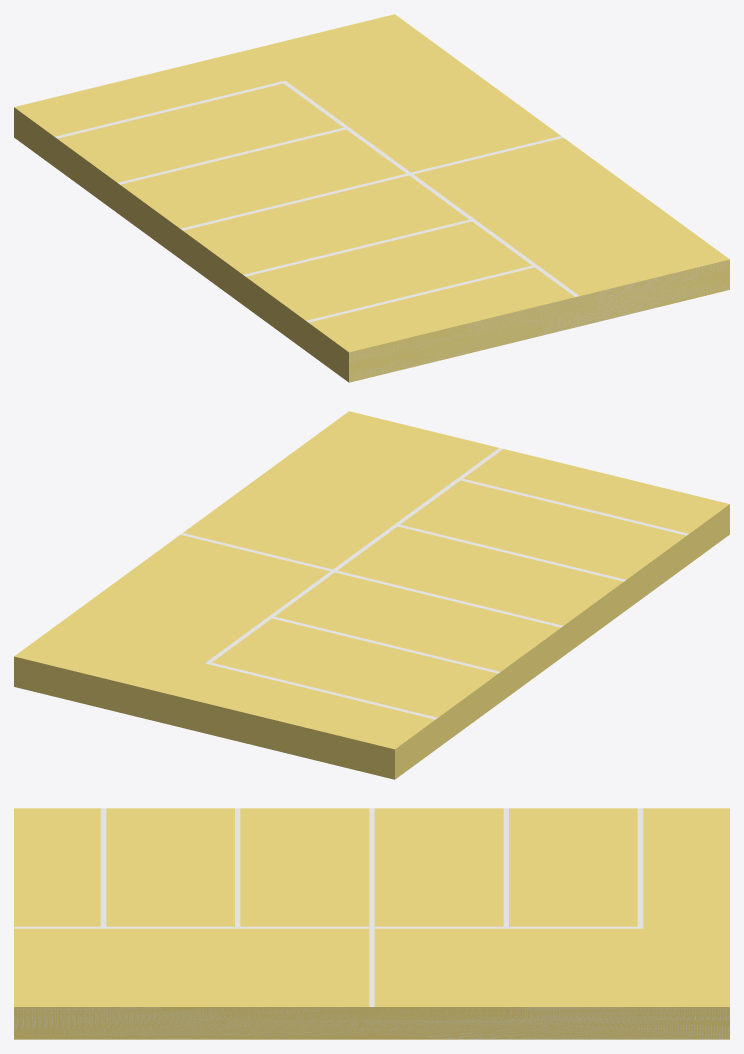
3 renders of one model, top to bottom at view 1: azimuth 30°, elevation 25°; view 2: azimuth 150°, elevation 25°; view 3: azimuth 270°, elevation 25°, orthographic. The views are drawn at different scales.
Parts seen in each view (by area): view 1: instance_0, instance_0.001; view 2: instance_0, instance_0.001; view 3: instance_0, instance_0.001.
Part boxes in pixels (x1,y1,x2,y2): instance_0: (14, 14, 729, 382); instance_0.001: (55, 80, 579, 322); instance_0: (14, 411, 729, 779); instance_0.001: (180, 448, 688, 719); instance_0: (14, 808, 729, 1039); instance_0.001: (14, 808, 643, 1006).
Size of the model in its own units: 2.63 by 4 by 0.2.
